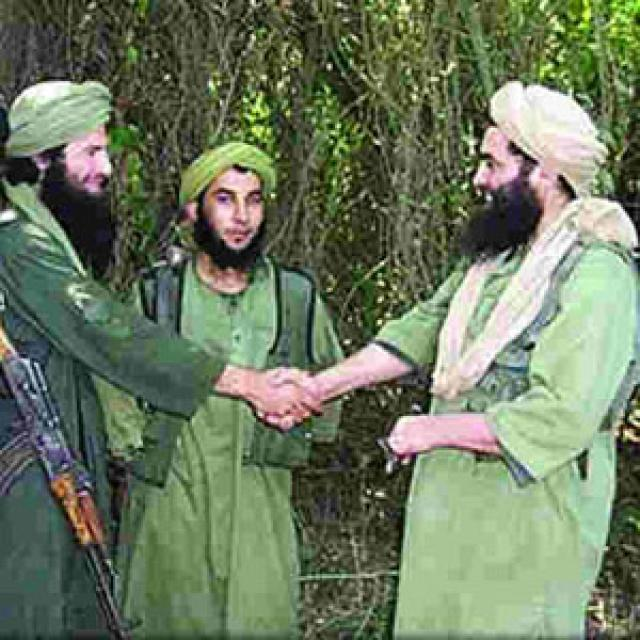Forest: (0, 2, 640, 640)
Militant: (375, 45, 640, 640), (130, 113, 354, 640), (3, 73, 147, 640)
